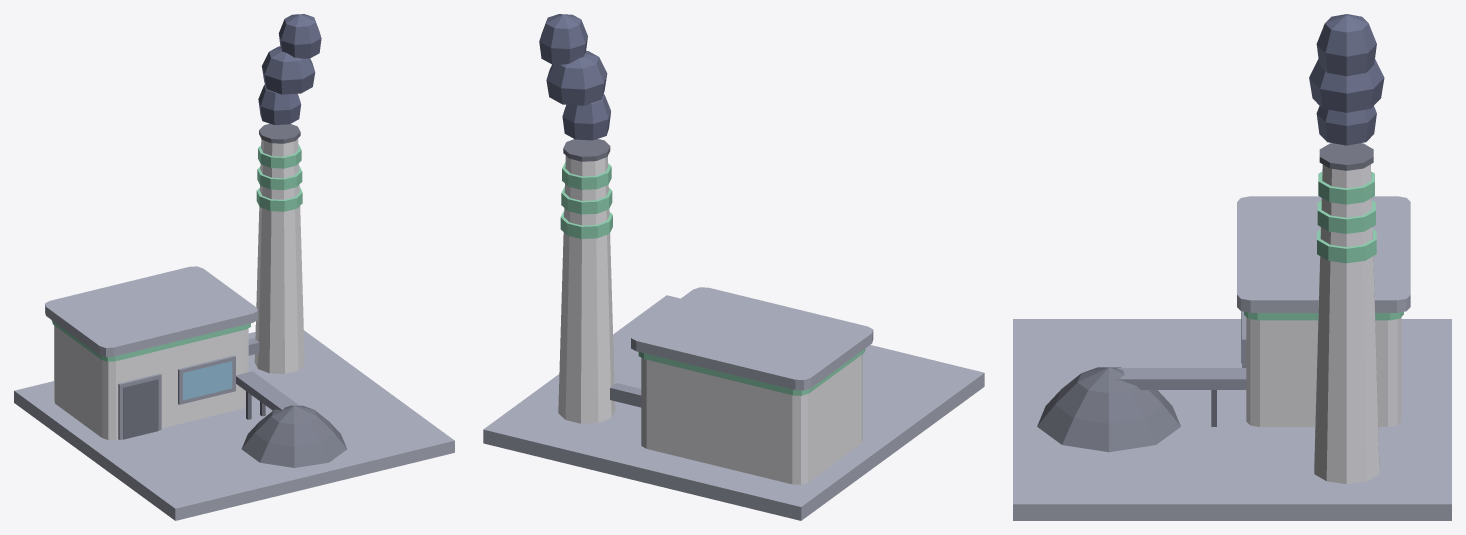
File: coal-1x1-t3-tone-a.glb
3 renders of one model, left to right at view 1: azimuth 30°, elevation 25°; view 2: azimuth 150°, elevation 25°; view 3: azimuth 270°, elevation 25°, orthographic. The views are drawn at different scales.
Parts seen in each view (by area): view 1: coal-1x1-t3-tone-a; view 2: coal-1x1-t3-tone-a; view 3: coal-1x1-t3-tone-a.
Part boxes in pixels (x1,y1,x2,y2): coal-1x1-t3-tone-a: [14, 14, 454, 520]; coal-1x1-t3-tone-a: [483, 14, 984, 520]; coal-1x1-t3-tone-a: [1013, 14, 1451, 520].
Size of the model in its own units: 0.96 by 1.17 by 0.96.
Materials: 1 (1 with a texture image).
